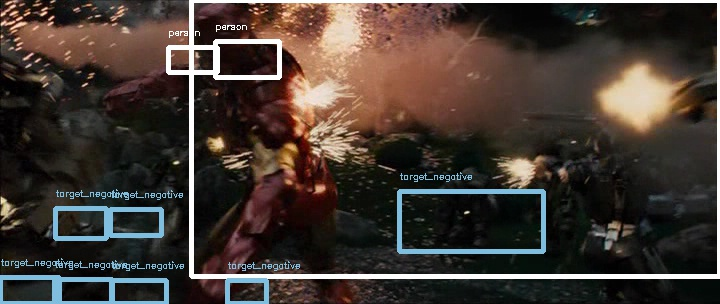person: (191, 4, 248, 72), (190, 4, 247, 72), (192, 4, 249, 72), (191, 3, 248, 71), (191, 5, 248, 73)
target_negative: (277, 76, 676, 174), (164, 76, 308, 146), (234, 159, 292, 270), (302, 263, 542, 275), (512, 167, 653, 172), (490, 298, 667, 299)
